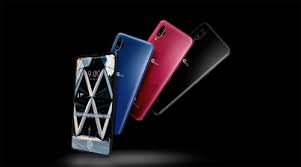lg: (70, 54, 119, 158)
